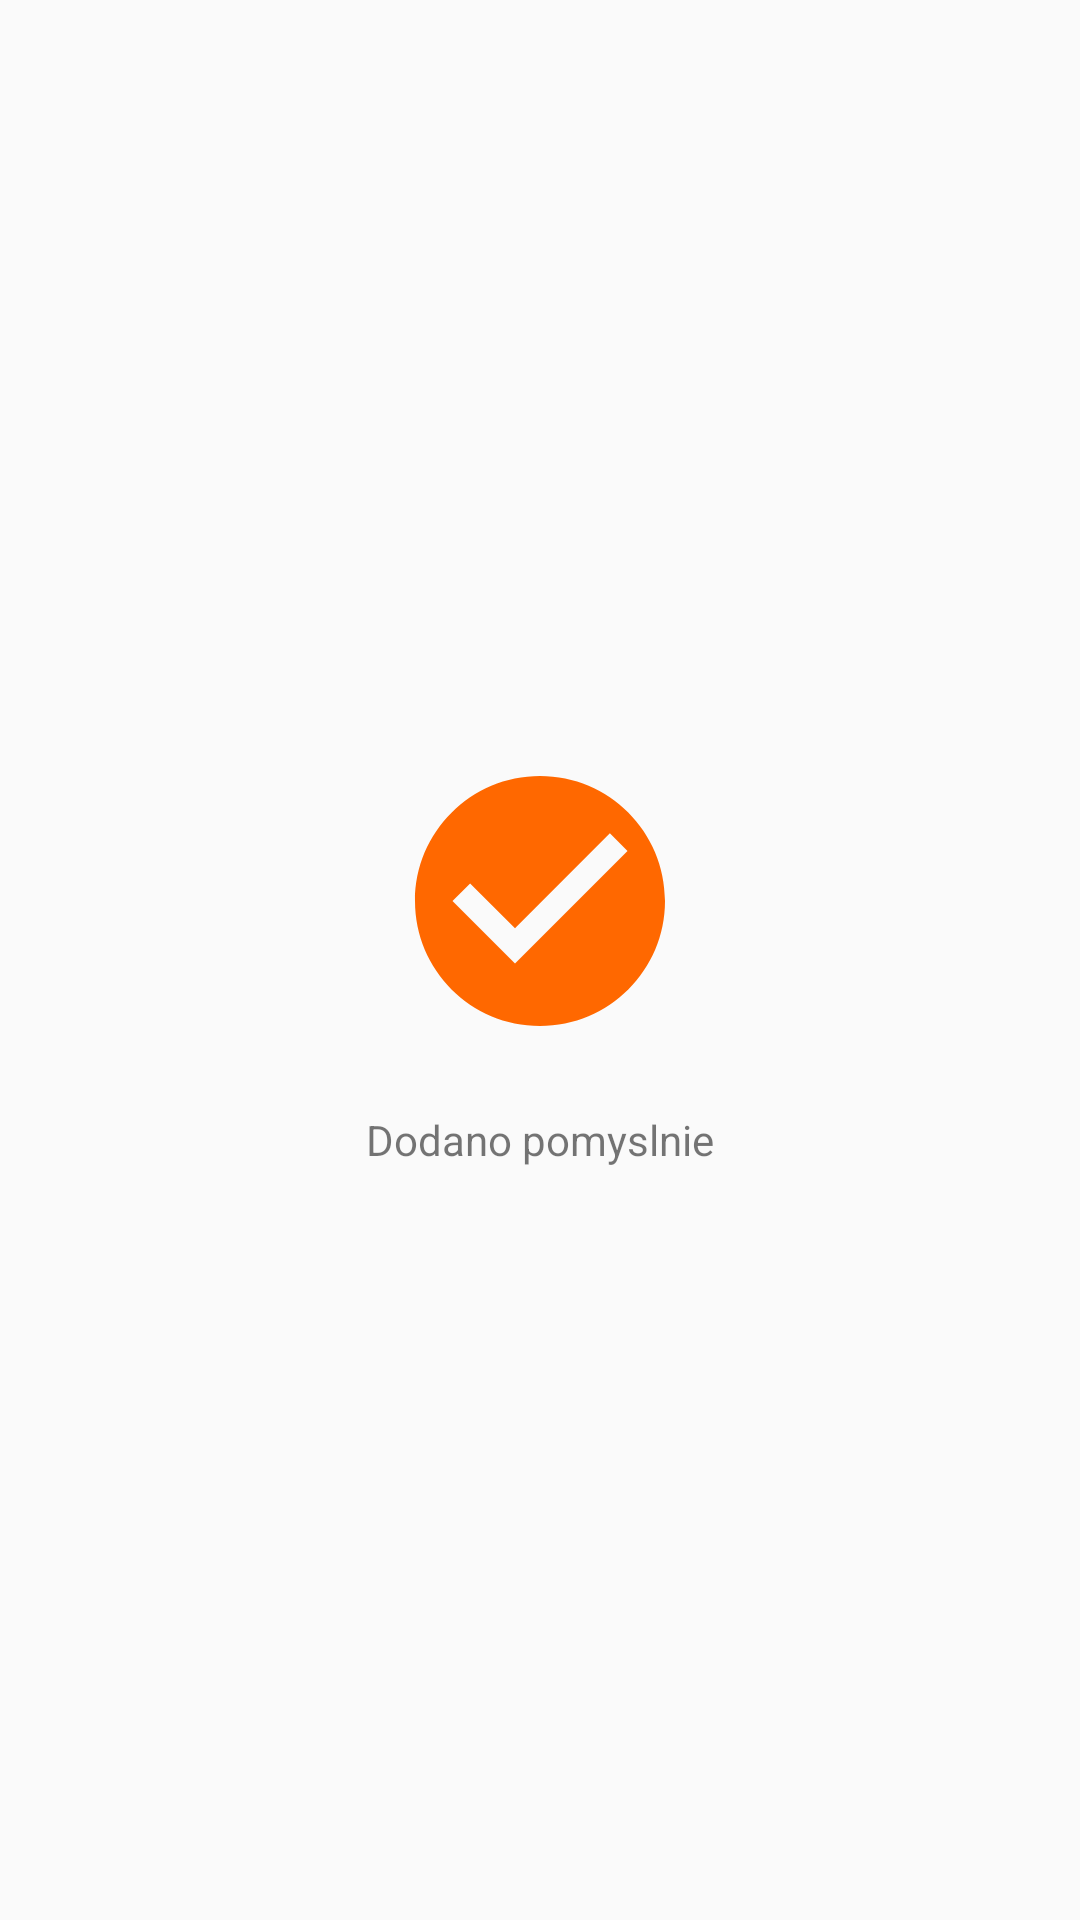

Icons on this 1080x1920 Android screen, each with the point to tap as point (x, y):
check circle: point (540, 901)
